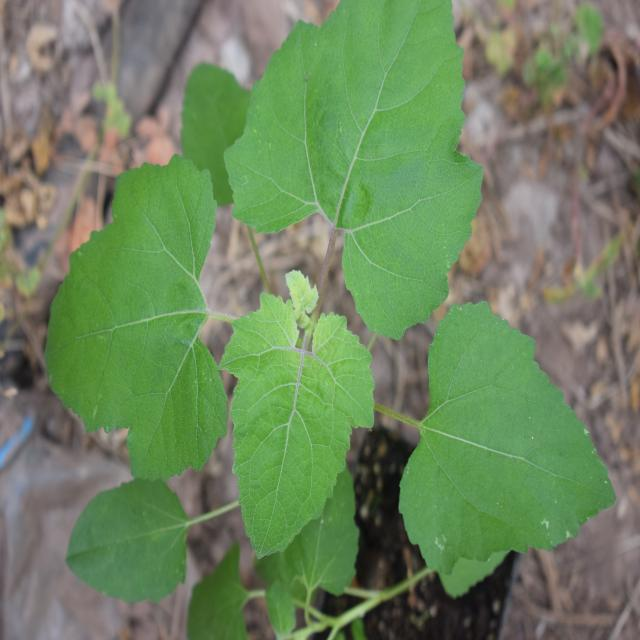cocklebur: (60, 0, 590, 551)
